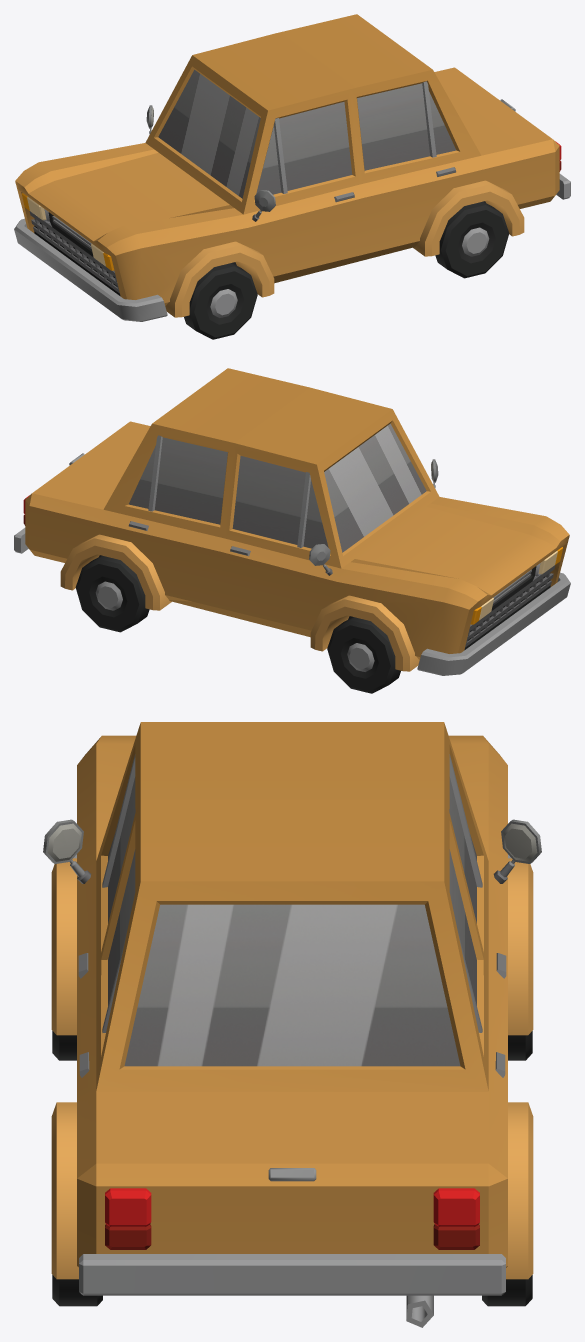
File: Car_5_F.gltf
3 views of the same model, one above another, from view 1: azimuth 30°, elevation 25°; view 2: azimuth 150°, elevation 25°; view 3: azimuth 270°, elevation 25° (orthographic). The views are drawn at different scales.
Parts seen in each view (by area): view 1: Car_5_F, RR, FL; view 2: Car_5_F, RL, FR; view 3: Car_5_F, RR, RL.
Part boxes in pixels (x1,y1,x2,y2): Car_5_F: [14, 14, 570, 321]; RR: [435, 201, 509, 278]; FL: [184, 263, 257, 339]; Car_5_F: [14, 368, 570, 675]; RL: [75, 555, 149, 632]; FR: [327, 617, 400, 693]; Car_5_F: [43, 722, 541, 1327]; RR: [52, 1275, 102, 1306]; RL: [482, 1275, 532, 1306].
Bounding box in the file's own units: 3.55 × 1.45 × 1.67.
Materials: 4 (4 with a texture image).
